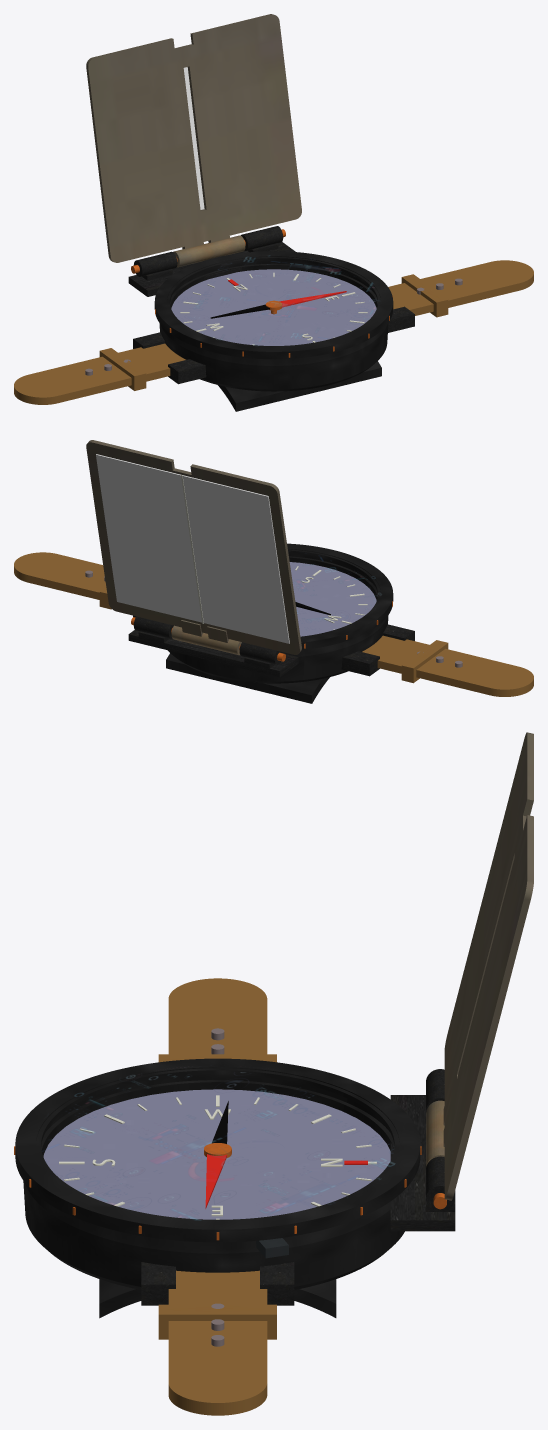
Rendered from pictureX_0611_compass__0117.glb.
3 views of the same model, one above another, from view 1: azimuth 30°, elevation 25°; view 2: azimuth 150°, elevation 25°; view 3: azimuth 270°, elevation 25° (orthographic). The views are drawn at different scales.
Visible parts, largest first — view 1: cover::cover_panel, case::dial_face, case::case_shell, bezel::bezel_ring, case::strap_band_left, case::strap_band_right, case::wrist_cradle, cover::cover_knuckle, case::hinge_bridge, case::strap_keeper_left, case::strap_keeper_right, case::strap_lug_left_0 (+5 smaller); view 2: cover::mirror_face, cover::cover_panel, case::strap_band_left, case::case_shell, case::dial_face, bezel::bezel_ring, case::strap_band_right, case::hinge_bridge, case::wrist_cradle, cover::cover_knuckle, case::strap_keeper_left, case::strap_lug_left_1 (+4 smaller); view 3: case::dial_face, bezel::bezel_ring, case::case_shell, cover::cover_panel, case::strap_band_right, case::strap_band_left, case::hinge_bridge, case::strap_keeper_right, case::wrist_cradle, bezel::glass_lens, case::strap_lug_right_0, case::strap_lug_right_1 (+2 smaller).
Boxes of the visible parts, x1,y1,x2,y2 form: cover::cover_panel: (86,14,301,262); case::dial_face: (171,269,376,345); case::case_shell: (159,263,388,391); bezel::bezel_ring: (154,251,393,359); case::strap_band_left: (14,343,185,404); case::strap_band_right: (388,260,533,315); case::wrist_cradle: (218,361,381,411); cover::cover_knuckle: (173,235,245,267); case::hinge_bridge: (128,242,295,296); case::strap_keeper_left: (99,348,146,390); case::strap_keeper_right: (401,274,448,317); case::strap_lug_left_0: (168,359,206,384); cover::mirror_face: (96,454,289,643); cover::cover_panel: (86,440,301,654); case::strap_band_left: (362,635,533,696); case::case_shell: (168,556,388,683); case::dial_face: (289,562,376,636); bezel::bezel_ring: (287,543,393,649); case::strap_band_right: (14,552,106,599); case::hinge_bridge: (128,630,298,677); case::wrist_cradle: (166,653,329,703); cover::cover_knuckle: (171,625,241,655); case::strap_keeper_left: (401,640,448,683); case::strap_lug_left_1: (341,651,379,676); case::dial_face: (43,1089,390,1219); bezel::bezel_ring: (15,1058,420,1242); case::case_shell: (23,1080,404,1289); cover::cover_panel: (443,732,533,1200); case::strap_band_right: (168,1270,267,1415); case::strap_band_left: (168,978,267,1054); case::hinge_bridge: (390,1095,455,1231); case::strap_keeper_right: (158,1304,276,1339); case::wrist_cradle: (99,1279,336,1318); bezel::glass_lens: (48,1072,394,1220); case::strap_lug_right_0: (141,1262,175,1305); case::strap_lug_right_1: (260,1262,294,1305).
Bounding box in the file's own units: 0.2163 × 0.1071 × 0.1119.
Materials: 40 (10 with a texture image).
